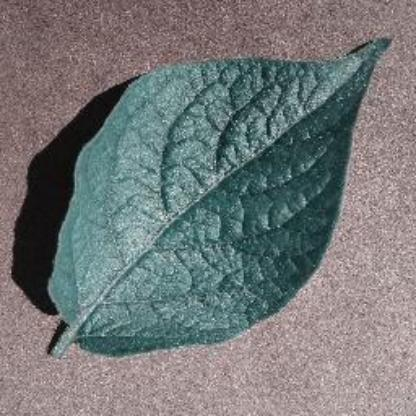Healthy-plant: (41, 28, 410, 366)
